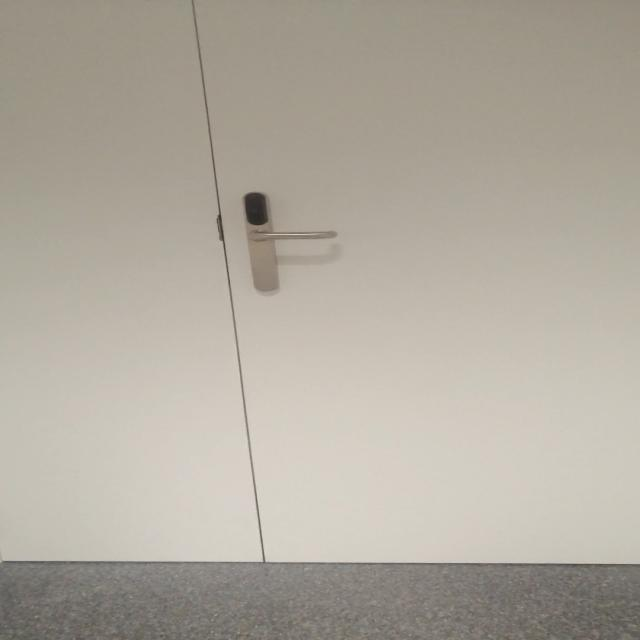door_handle: (238, 227, 344, 247)
